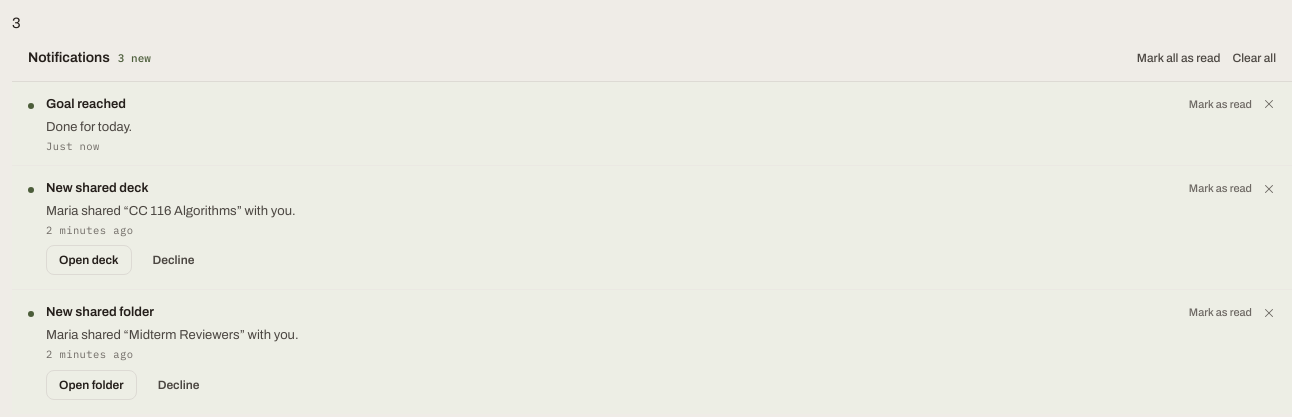
Test: clearing › clears everything, the device’s own notices too, and only what was on screen
Check: the text "Maria shared “CC 116 Algorithms” with you." is shown, box top-left (46, 204), bottom-right (296, 218)
Click the button "Clear all" at (1254, 58), box top-left (1232, 49), bottom-right (1276, 67)
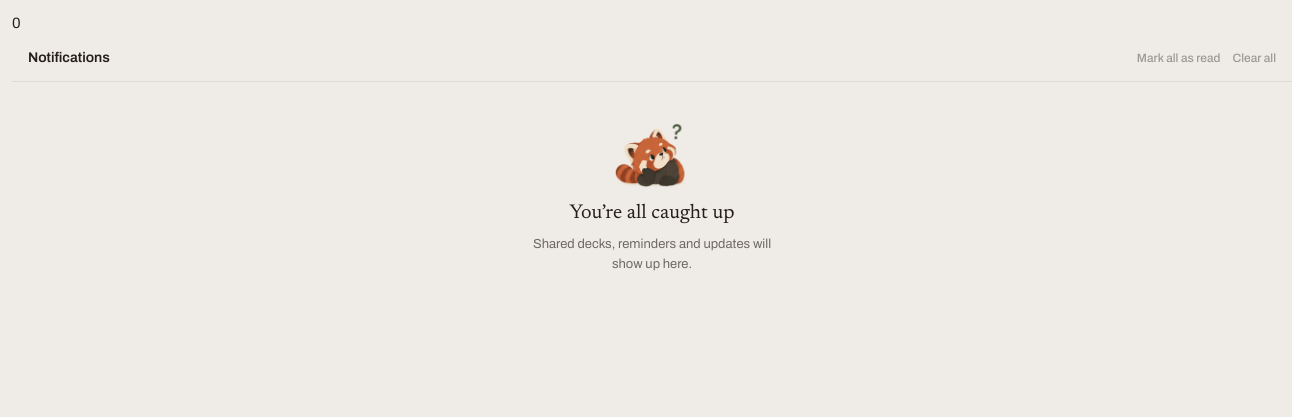
Check: the text "You’re all caught up" is shown, box top-left (570, 201), bottom-right (734, 226)
Check: the button "Clear all" is disabled, box top-left (1232, 49), bottom-right (1276, 67)
